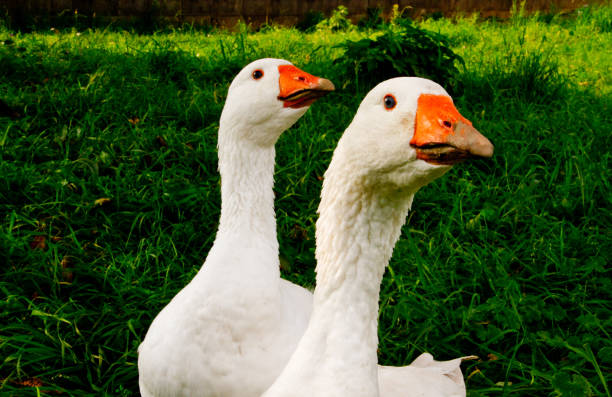goose: (254, 71, 499, 397), (131, 52, 342, 397)
